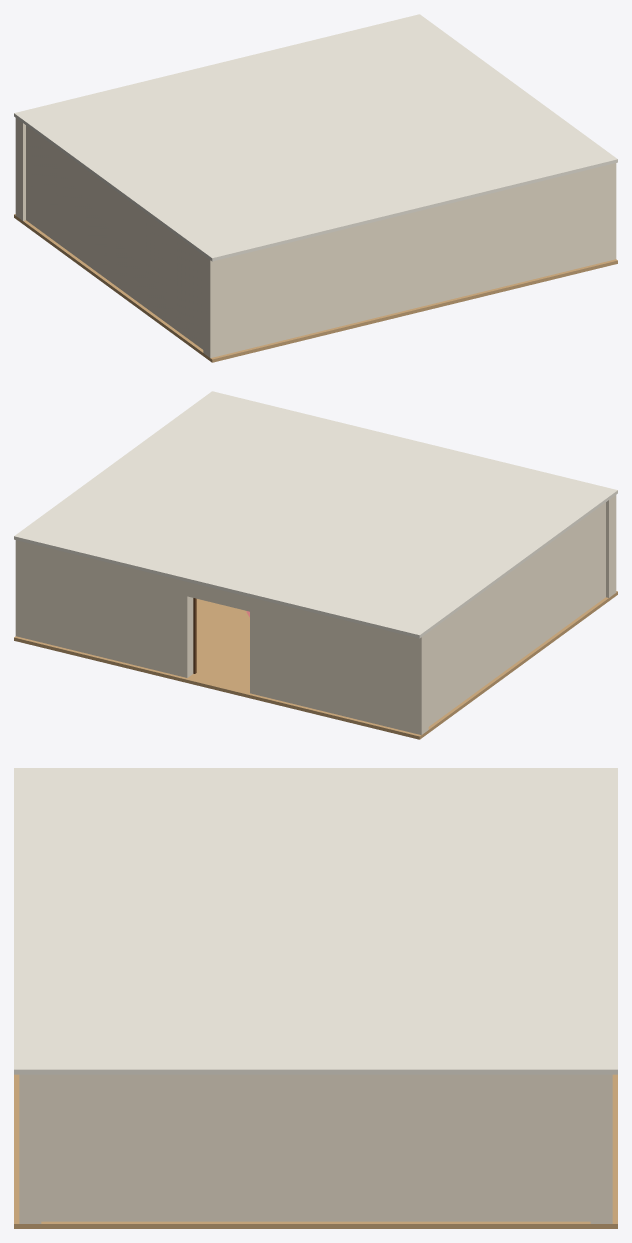
The model's file is room.glb.
The picture shows the model from 3 angles, top to bottom: view 1: azimuth 30°, elevation 25°; view 2: azimuth 150°, elevation 25°; view 3: azimuth 270°, elevation 25°; orthographic projection. The views are drawn at different scales.
Parts seen in each view (by area): view 1: ceiling, wallCream, floor; view 2: ceiling, wallCream, floor; view 3: ceiling, wallCream, floor.
Boxes of the visible parts, x1,y1,x2,y2 form: ceiling: [14, 14, 617, 261]; wallCream: [15, 118, 616, 357]; floor: [14, 214, 617, 362]; ceiling: [14, 391, 617, 638]; wallCream: [15, 495, 616, 734]; floor: [14, 591, 617, 739]; ceiling: [14, 768, 617, 1074]; wallCream: [19, 1074, 612, 1223]; floor: [14, 1074, 617, 1228].
Bounding box in the file's own units: 13 × 3.2 × 11.
